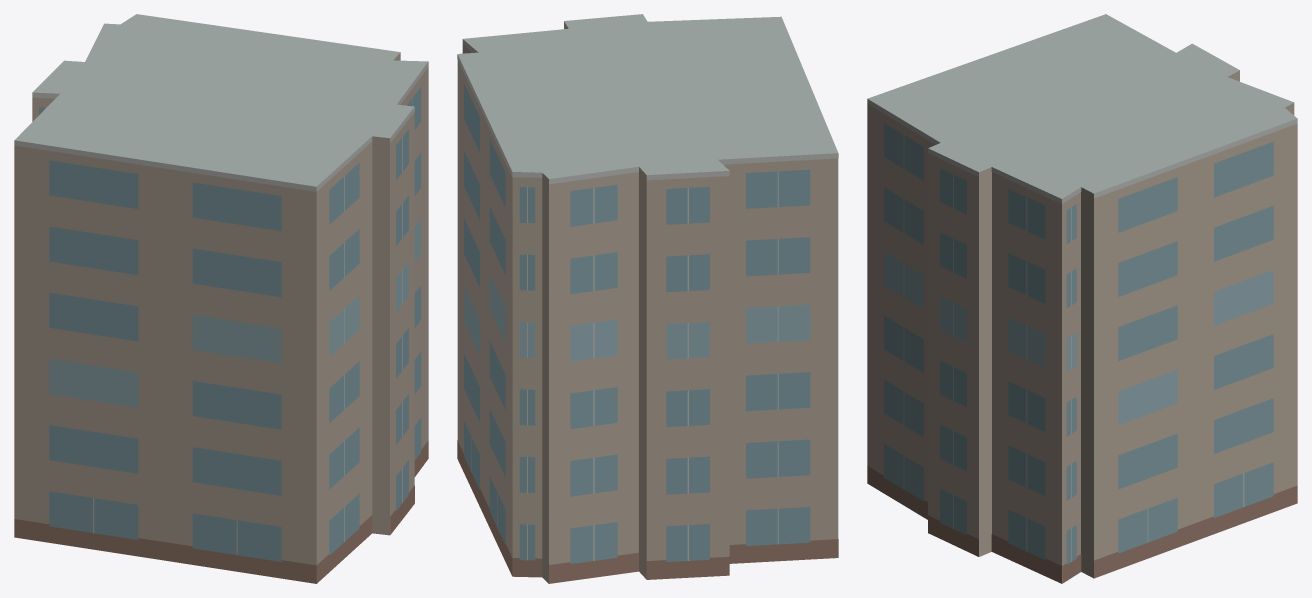
File: survey-upis-33000189.glb
The picture shows the model from 3 angles, left to right: view 1: azimuth 30°, elevation 25°; view 2: azimuth 150°, elevation 25°; view 3: azimuth 270°, elevation 25°; orthographic projection. The views are drawn at different scales.
Parts seen in each view (by area): view 1: survey-upis-33000189.tmp; view 2: survey-upis-33000189.tmp; view 3: survey-upis-33000189.tmp.
Boxes of the visible parts, bbox=[...] form: survey-upis-33000189.tmp: bbox=[14, 14, 428, 583]; survey-upis-33000189.tmp: bbox=[457, 14, 838, 583]; survey-upis-33000189.tmp: bbox=[867, 14, 1297, 583].
Size of the model in its own units: 19.45 by 18.85 by 19.11.
